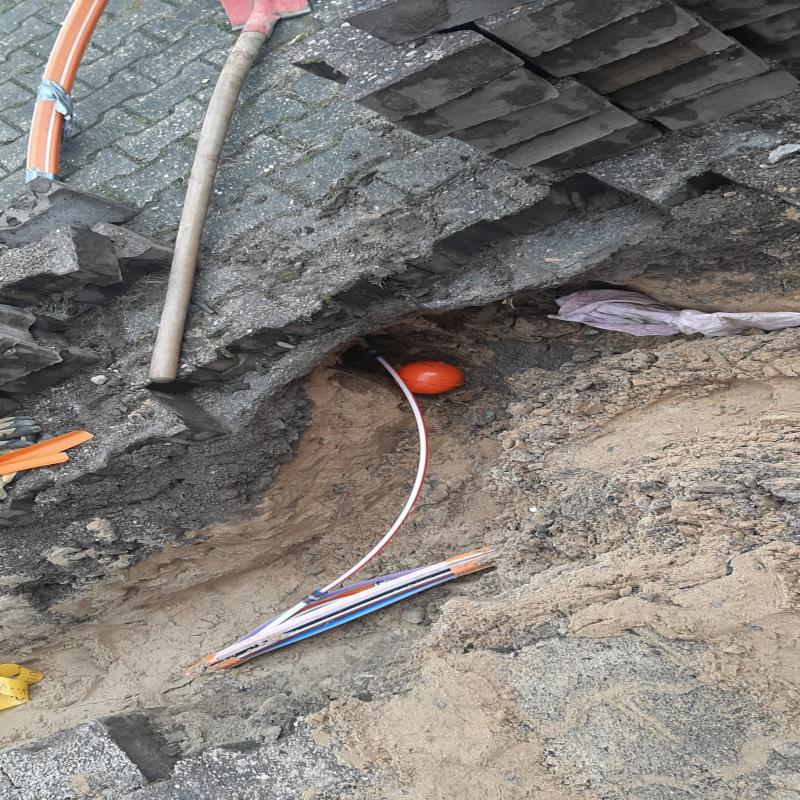Kugelmarker: (393, 362, 464, 394)
Orang-Speednetrohrchen: (197, 547, 494, 671)
